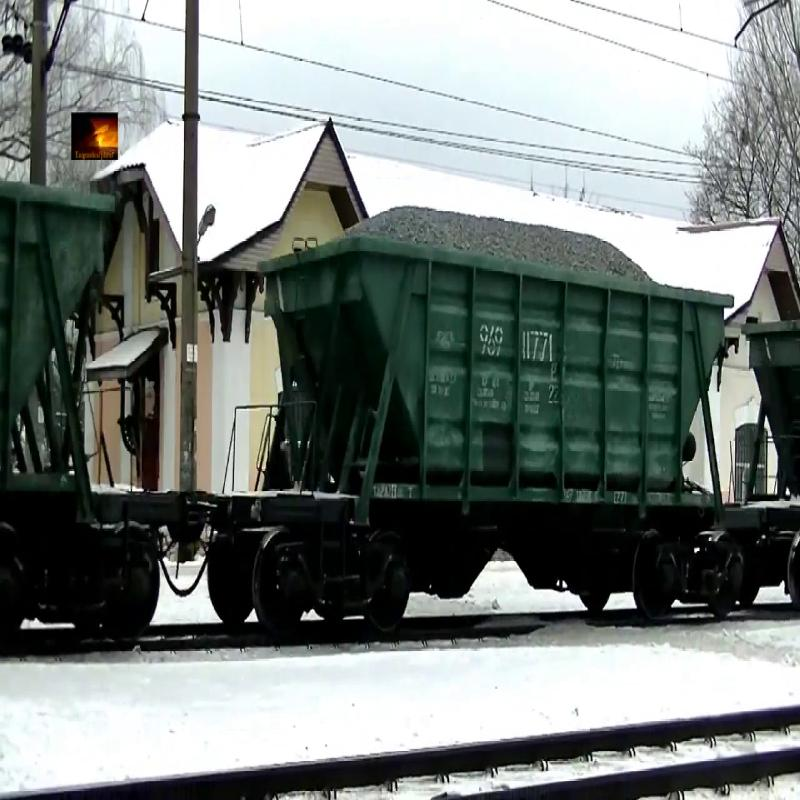train: (252, 204, 735, 629), (1, 136, 154, 647)
